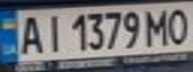1: (66, 10, 87, 52)
3: (84, 9, 106, 51)
7: (103, 8, 124, 51)
9: (121, 8, 145, 50)
A: (15, 12, 45, 55)
I: (39, 11, 66, 54)
M: (142, 6, 172, 47)
O: (163, 4, 193, 46)
